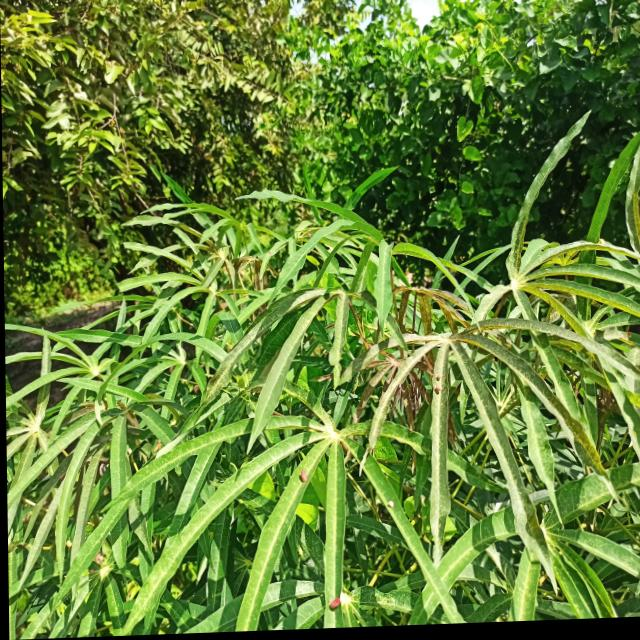Maleza: (315, 9, 640, 196), (0, 0, 350, 167)
Mosca: (326, 592, 344, 623), (429, 363, 442, 399), (295, 460, 311, 487), (55, 536, 75, 555), (222, 337, 238, 356), (406, 555, 418, 576)
